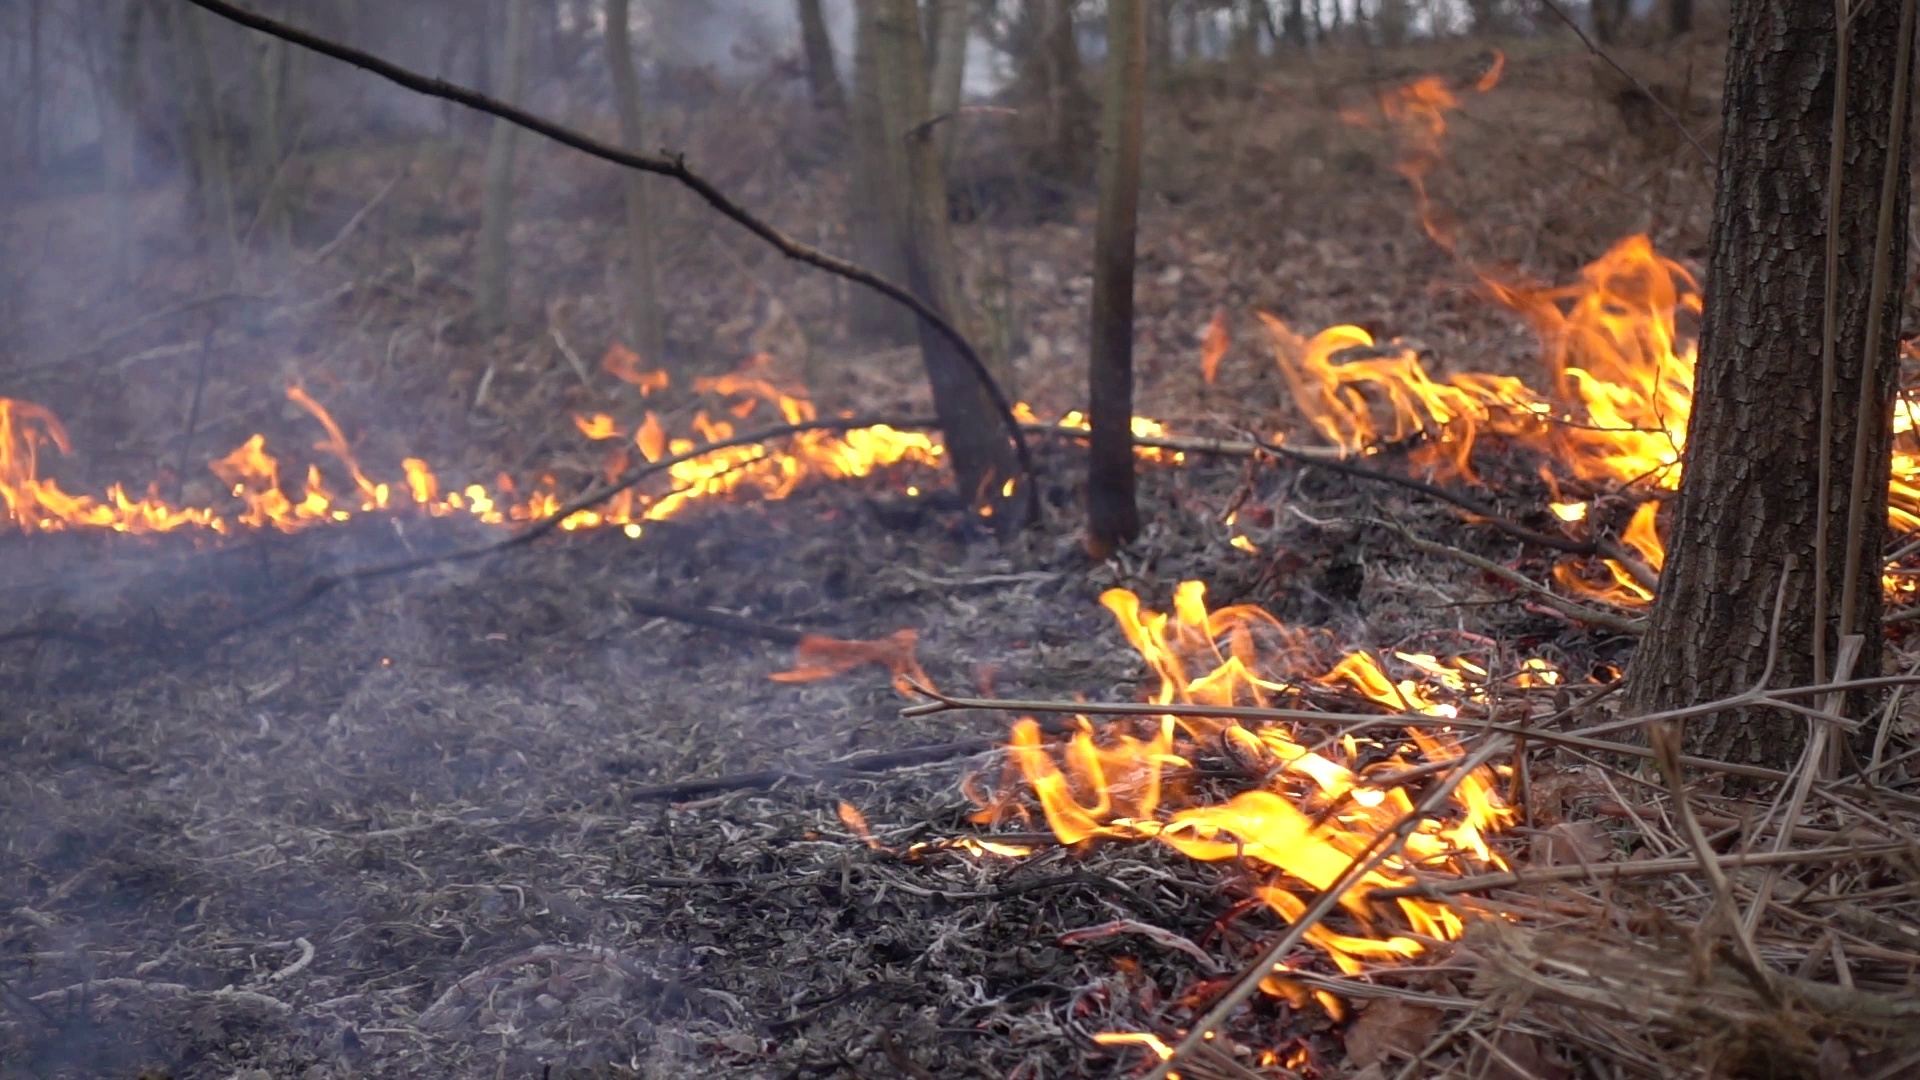fire: (1015, 600, 1515, 969), (1270, 236, 1691, 592), (562, 353, 944, 531), (4, 431, 328, 533), (356, 448, 506, 525), (1886, 393, 1920, 535), (1126, 411, 1166, 462)
